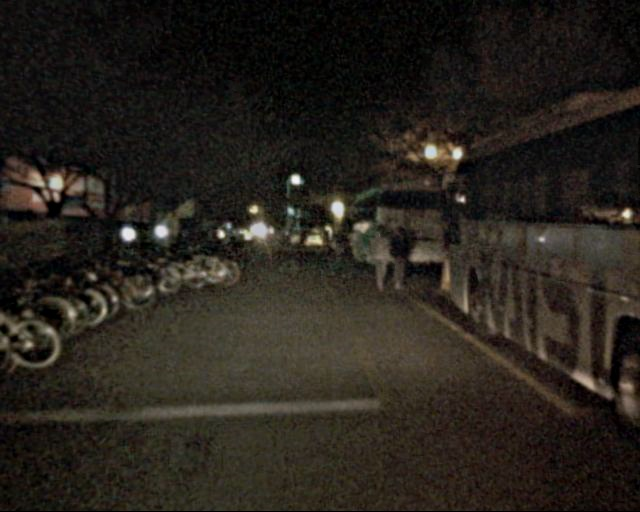person: (365, 225, 392, 290), (386, 228, 412, 292), (328, 222, 348, 271)
